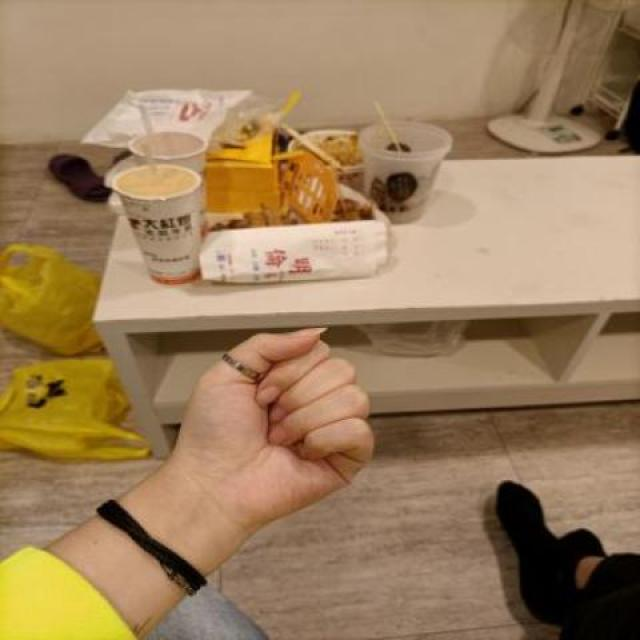Closed Hand: (174, 303, 385, 537)
